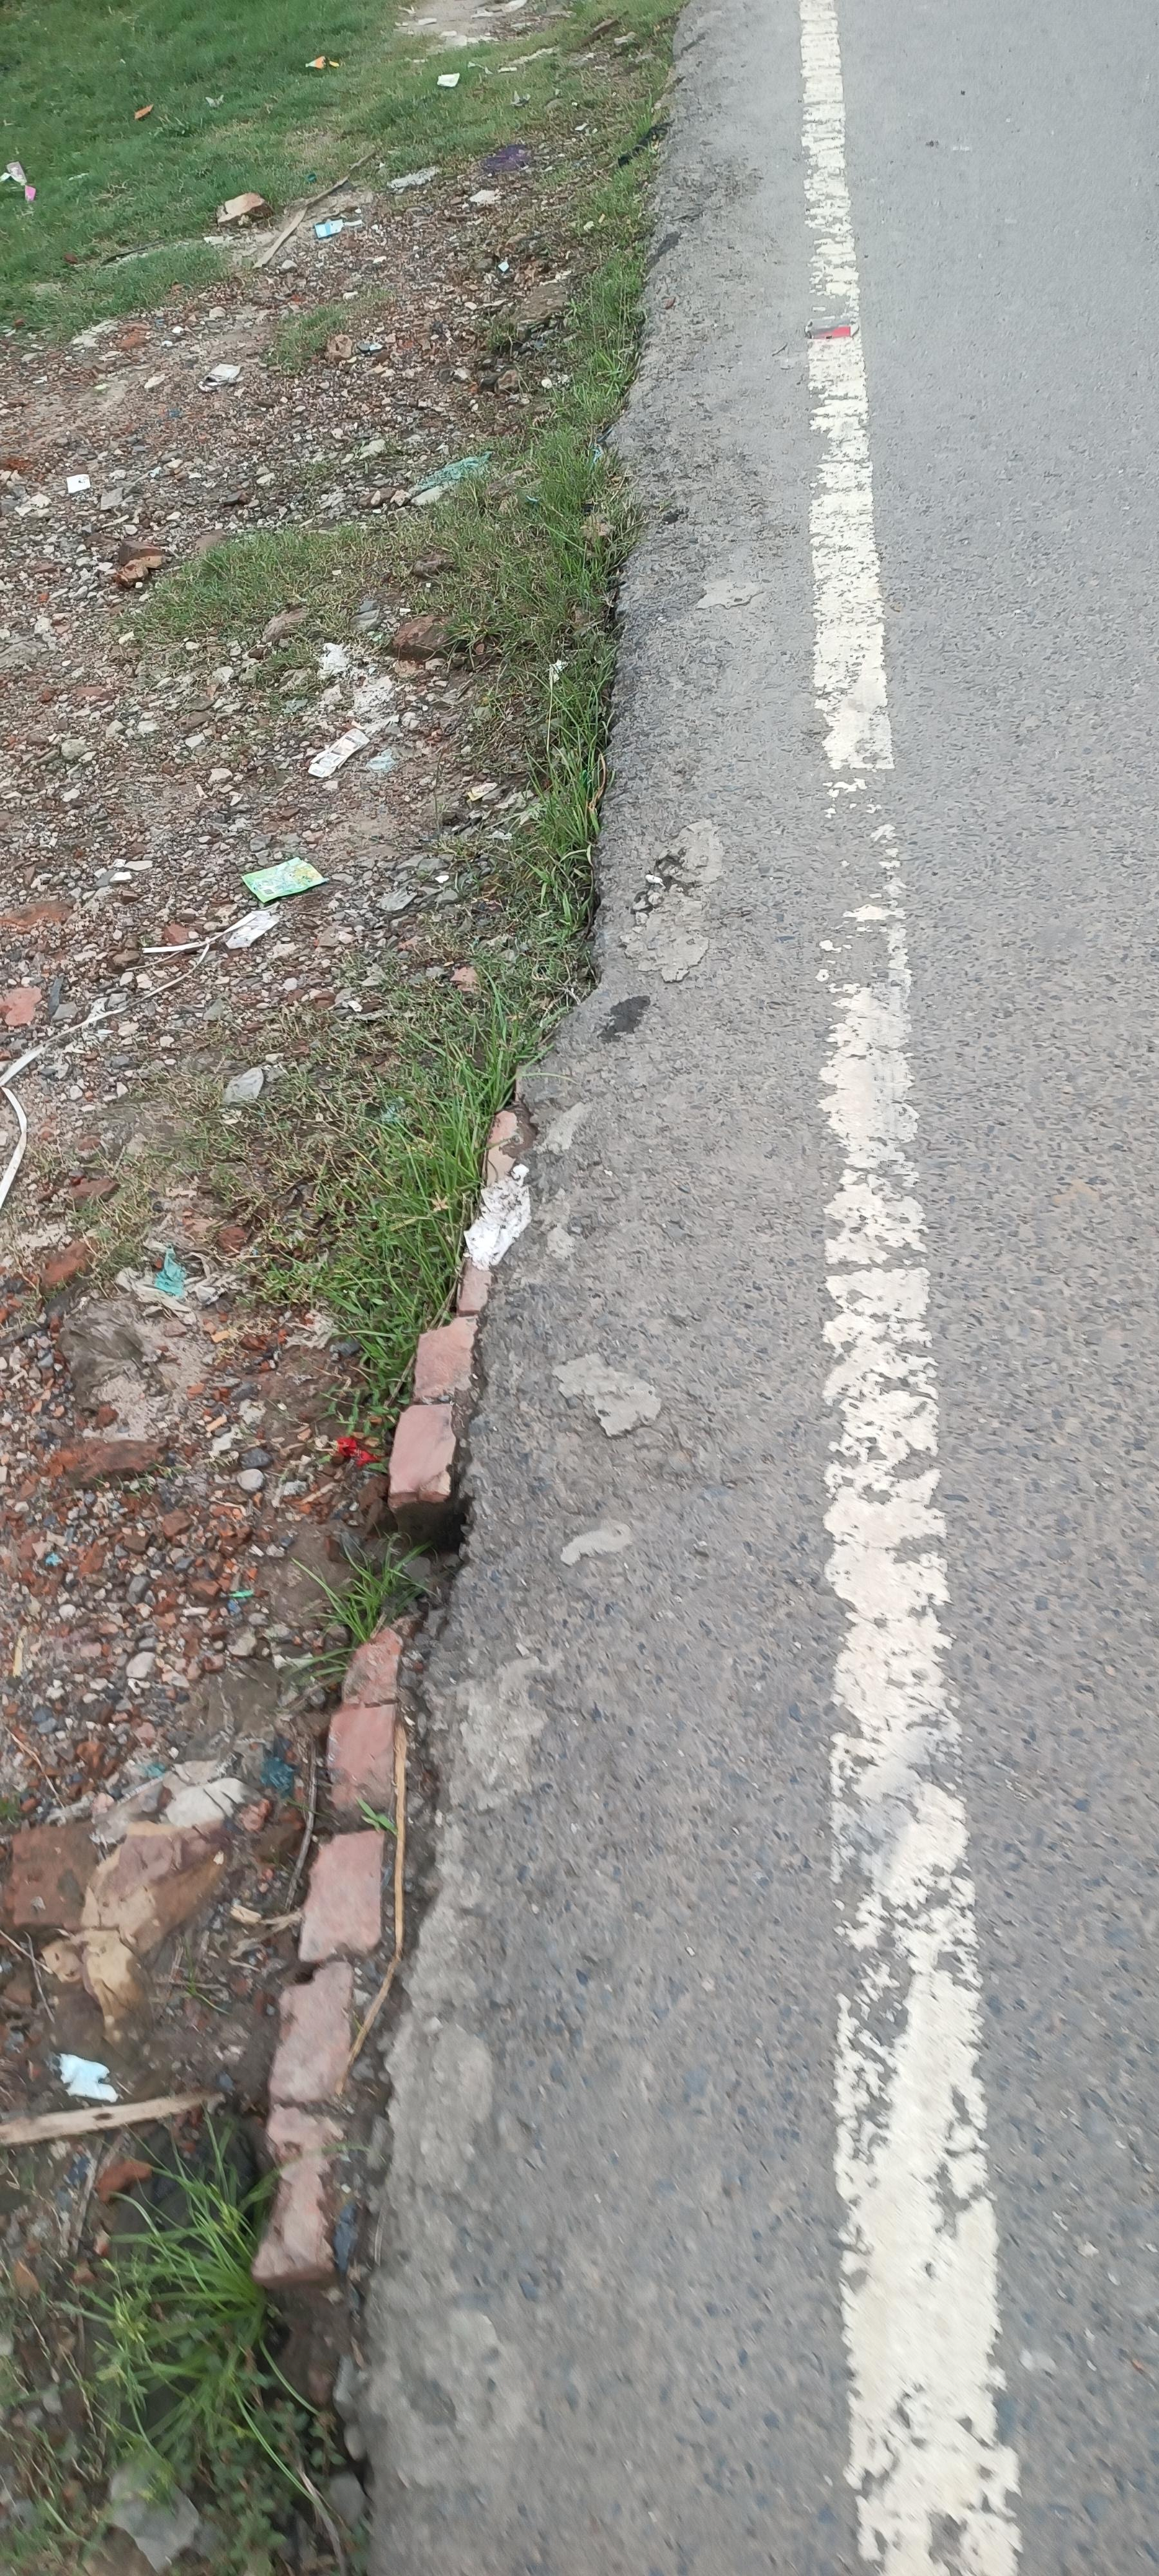Construction-barrier: (238, 278, 604, 2576)
